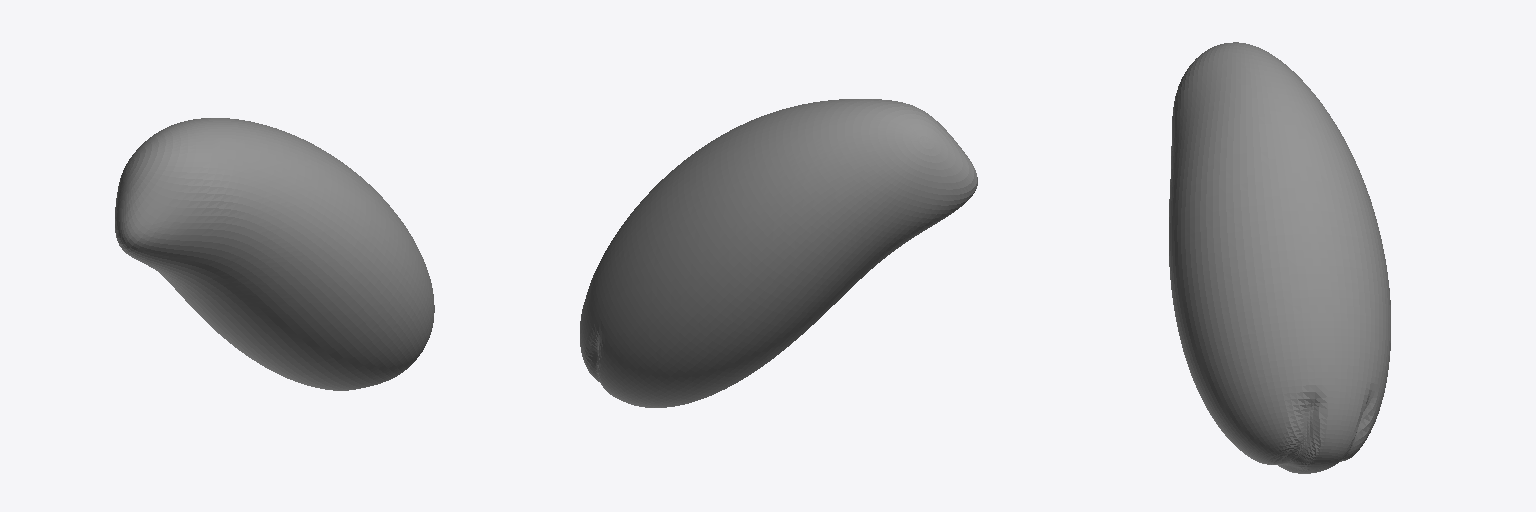
File: DBIz.obj
3 renders of one model, left to right at view 1: azimuth 30°, elevation 25°; view 2: azimuth 150°, elevation 25°; view 3: azimuth 270°, elevation 25°, orthographic.
Visible parts, largest first — view 1: BIz; view 2: BIz; view 3: BIz.
Boxes of the visible parts, <box> form: BIz: <box>115,118,434,390</box>; BIz: <box>580,99,977,407</box>; BIz: <box>1169,42,1390,473</box>.
Size of the model in its own units: 1.9 by 1.69 by 1.07.